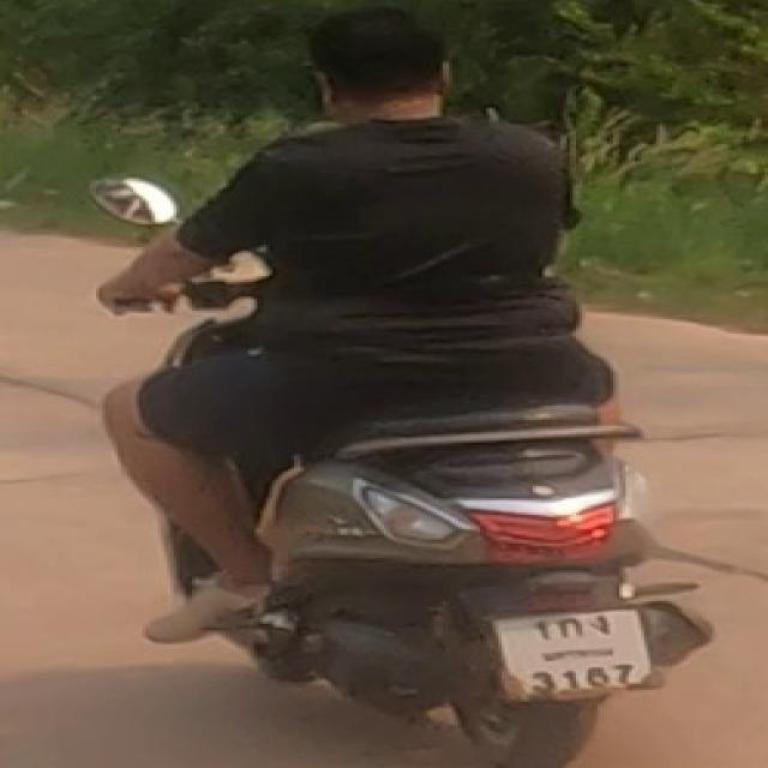license plate: (483, 594, 667, 700)
